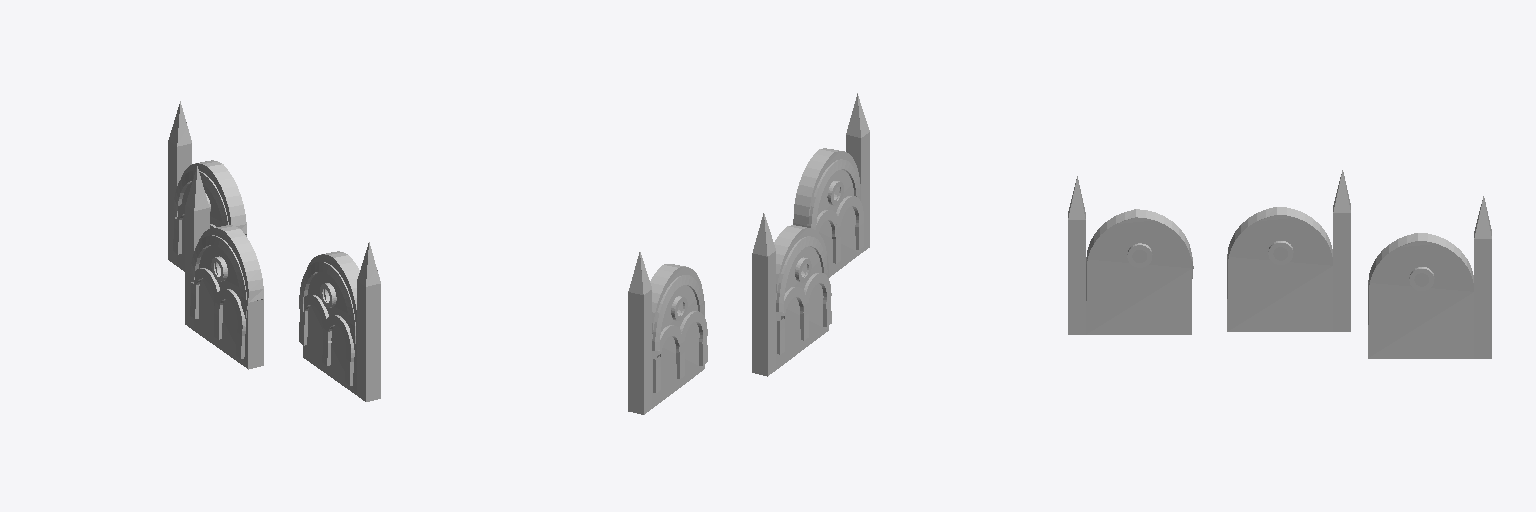
The model's file is WALL2.obj.
3 views of the same model, side by side, from view 1: azimuth 30°, elevation 25°; view 2: azimuth 150°, elevation 25°; view 3: azimuth 270°, elevation 25° (orthographic).
Visible parts, largest first — view 1: Circle.002_Circle.004, Circle.001_Circle.003, Circle_Circle.002; view 2: Circle_Circle.002, Circle.002_Circle.004, Circle.001_Circle.003; view 3: Circle_Circle.002, Circle.002_Circle.004, Circle.001_Circle.003.
Boxes of the visible parts, x1=… form: Circle.002_Circle.004: x1=185, y1=166, x2=263, y2=369; Circle.001_Circle.003: x1=299, y1=242, x2=380, y2=401; Circle_Circle.002: x1=168, y1=101, x2=246, y2=271; Circle_Circle.002: x1=628, y1=252, x2=707, y2=414; Circle.002_Circle.004: x1=752, y1=213, x2=831, y2=376; Circle.001_Circle.003: x1=793, y1=93, x2=869, y2=277; Circle_Circle.002: x1=1368, y1=196, x2=1491, y2=358; Circle.002_Circle.004: x1=1227, y1=170, x2=1350, y2=331; Circle.001_Circle.003: x1=1068, y1=176, x2=1193, y2=334.
Bounding box in the file's own units: 10.32 × 21.56 × 48.1.